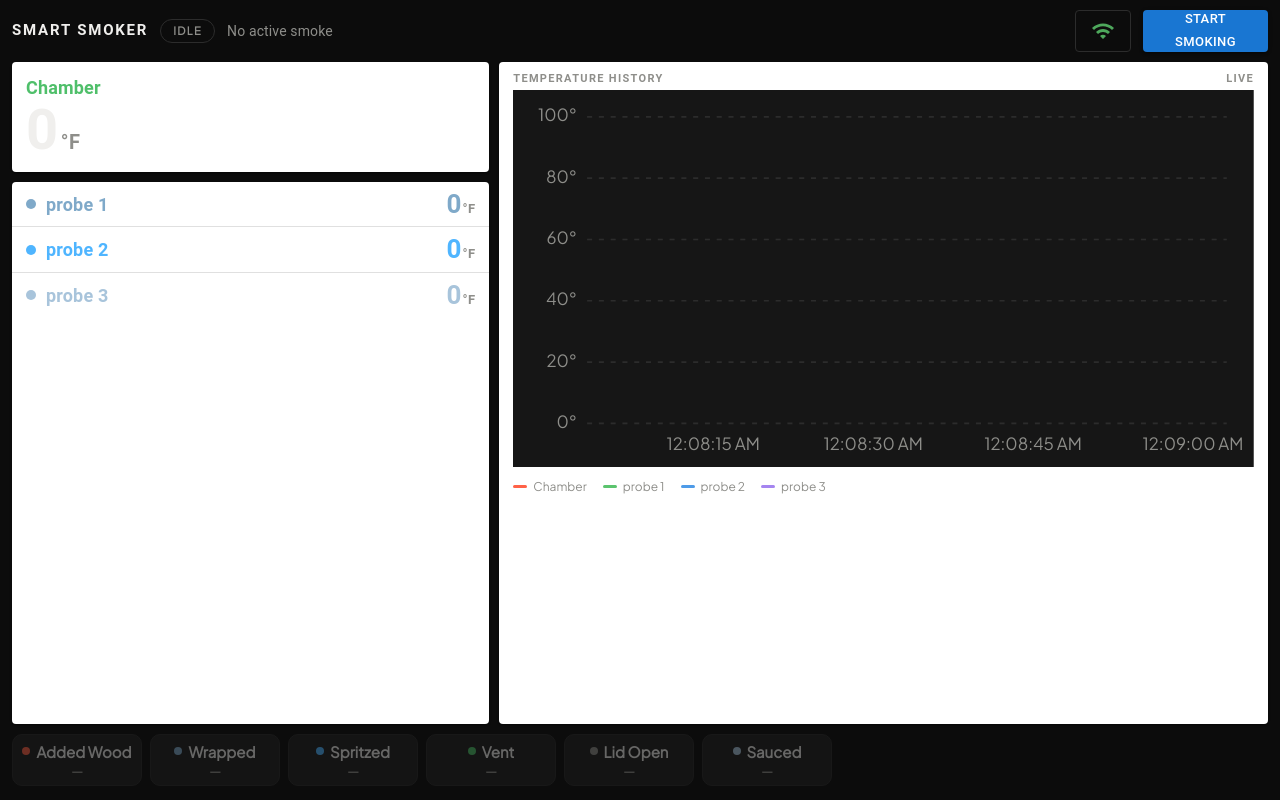
Test: Home — starting a cook over an auto-stopped one › lights a cook with no finish stamp straight away, as it always did
Click the button "Start Smoking". click: (1206, 31)
box: [1143, 10, 1268, 52]
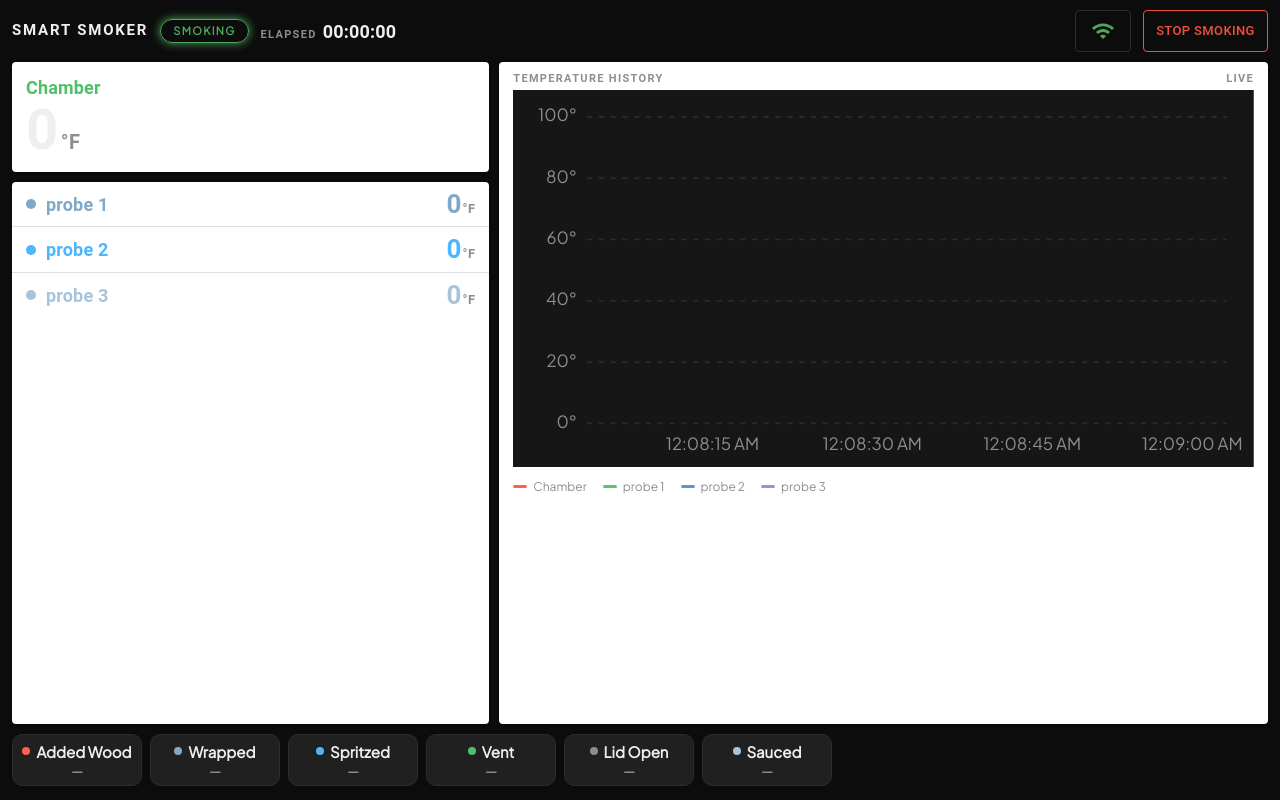
Check: the button "Stop Smoking" is shown, box [1143, 10, 1268, 52]
